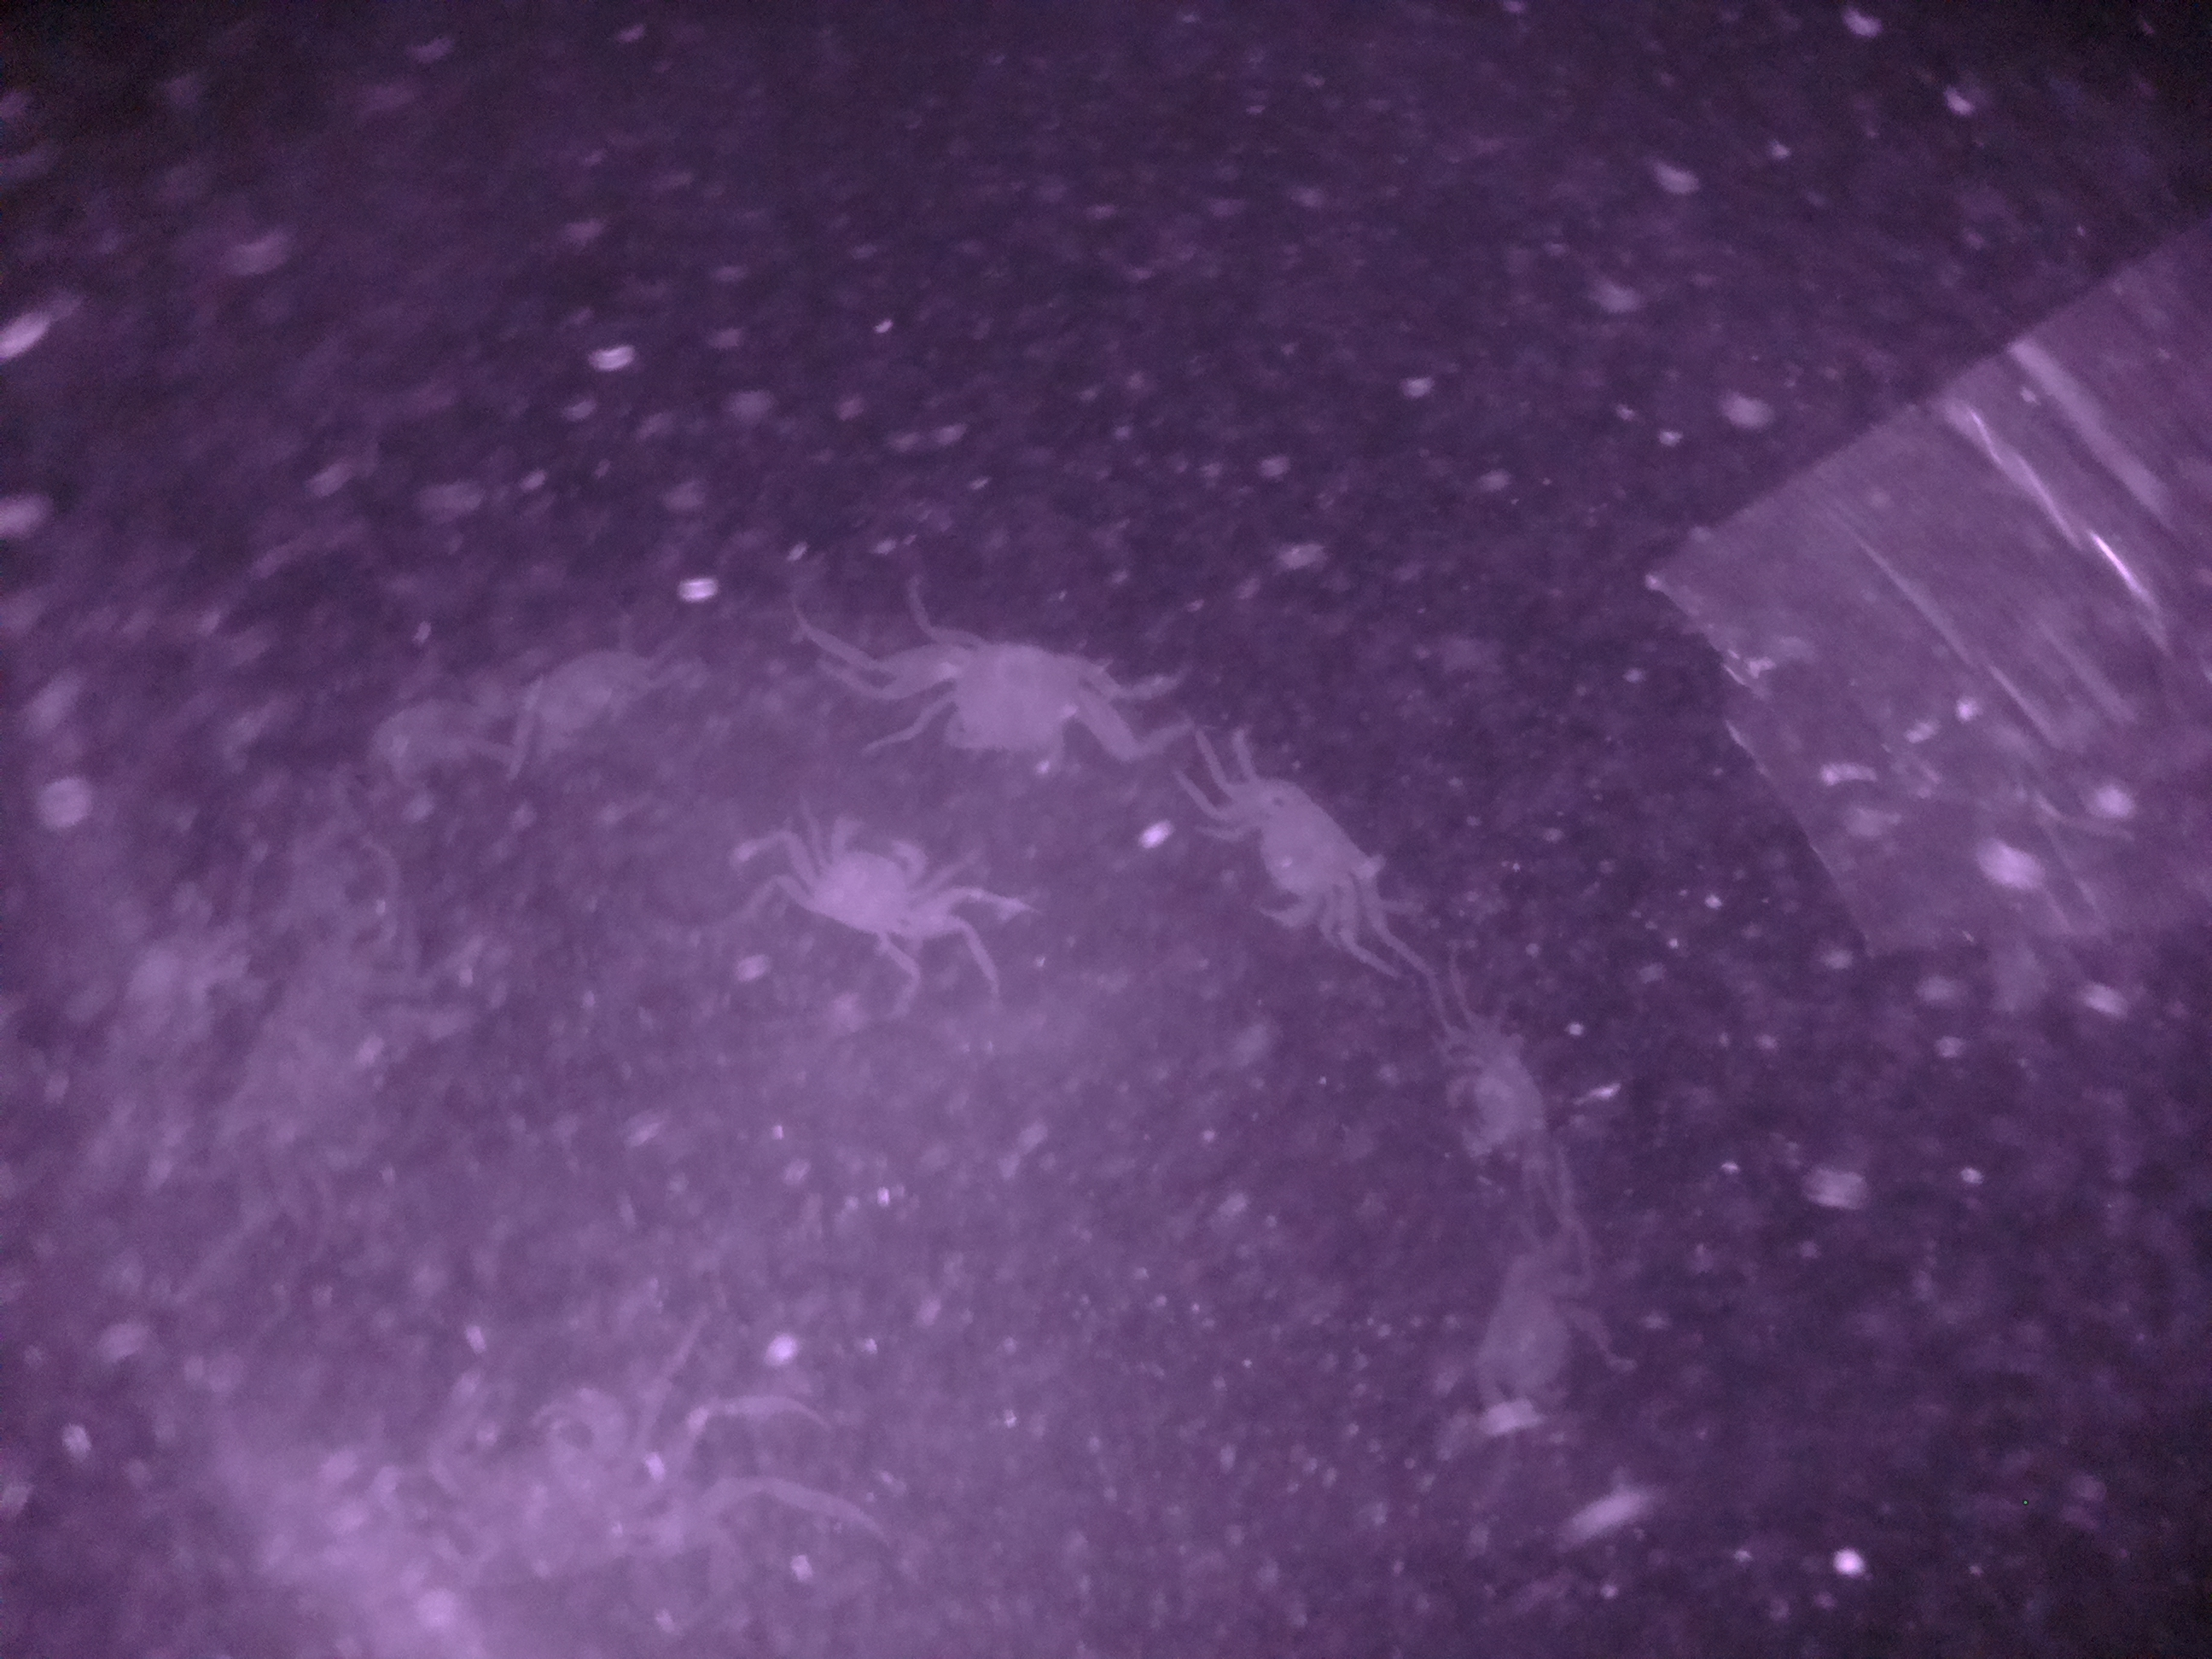Crab: (888, 612, 1129, 772), (1205, 758, 1397, 929), (784, 810, 974, 953)
